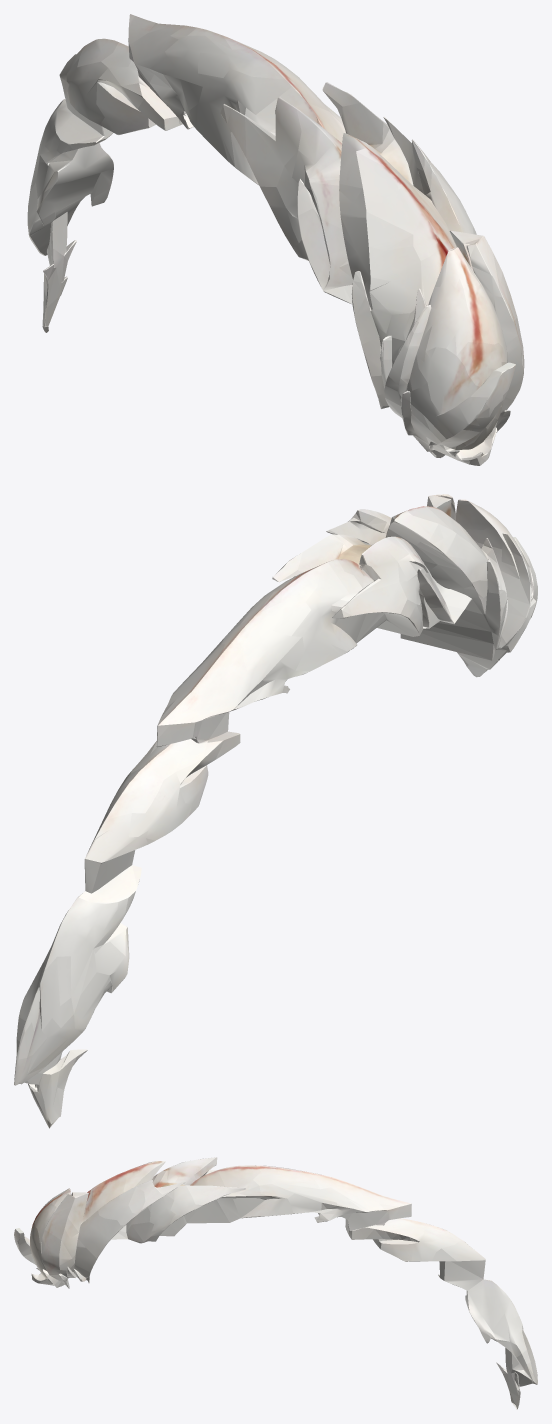
File: thalor_f-chignon-femme-crete.glb
3 renders of one model, top to bottom at view 1: azimuth 30°, elevation 25°; view 2: azimuth 150°, elevation 25°; view 3: azimuth 270°, elevation 25°, orthographic. The views are drawn at different scales.
Visible parts, largest first — view 1: geometry_0; view 2: geometry_0; view 3: geometry_0.
Boxes of the visible parts, x1,y1,x2,y2 form: geometry_0: (27,14,524,465); geometry_0: (14,494,537,1128); geometry_0: (14,1157,537,1409).
Bounding box in the file's own units: 0.3127 × 0.9458 × 1.9.
Materials: 1 (1 with a texture image).
